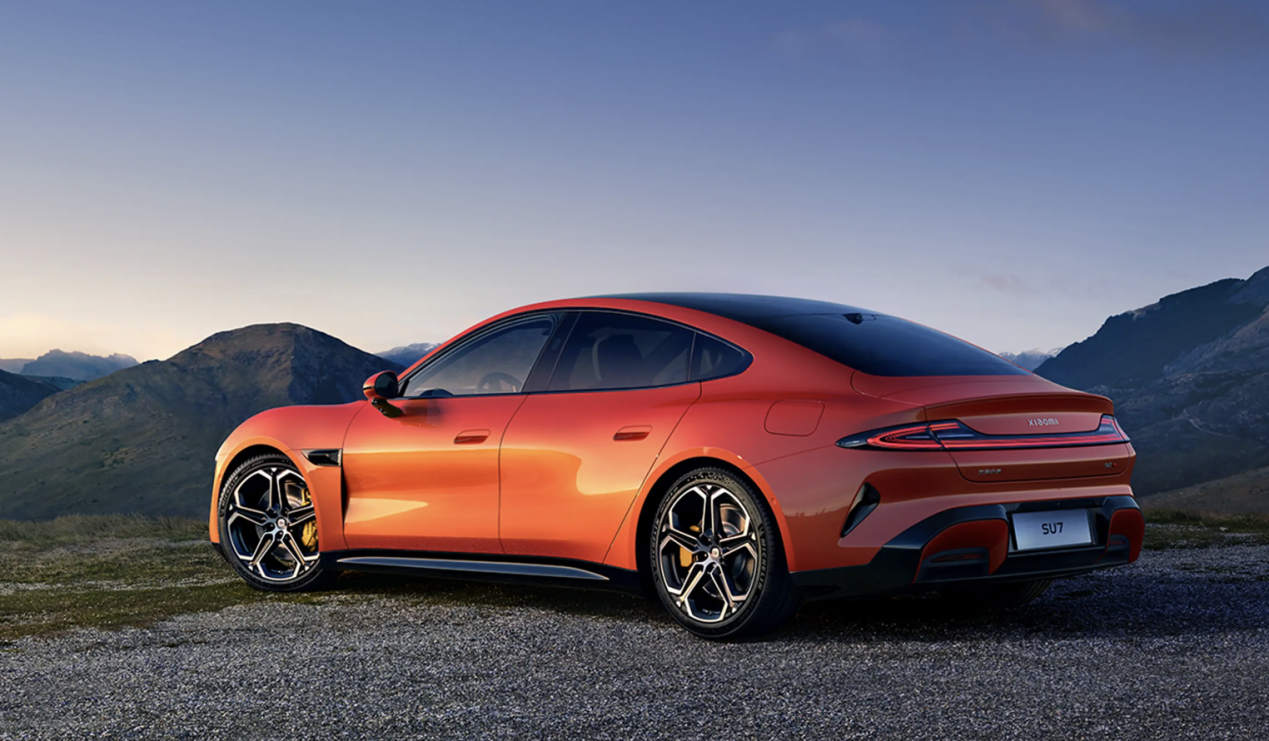su7: (196, 268, 1140, 636)
